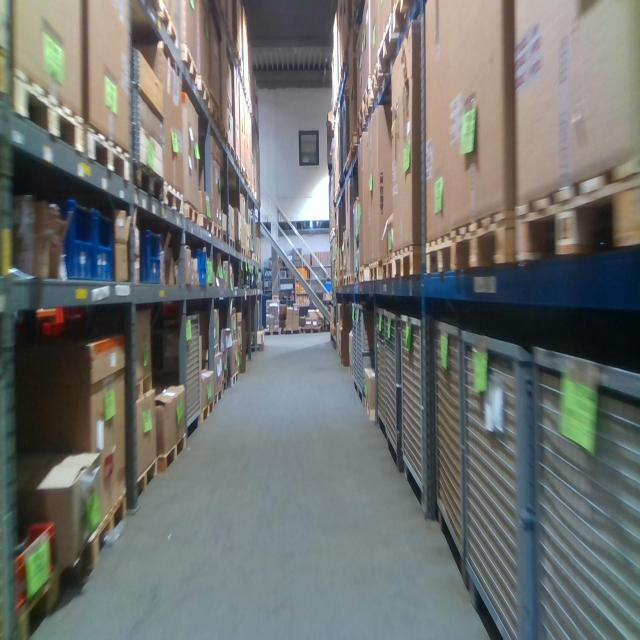pallet: (510, 172, 613, 271), (14, 67, 84, 158), (453, 209, 514, 277), (85, 490, 125, 572), (86, 116, 131, 185), (426, 228, 455, 278), (156, 429, 186, 477), (132, 452, 159, 501), (377, 10, 395, 72), (392, 243, 422, 280), (135, 161, 162, 202), (163, 178, 185, 218), (134, 367, 154, 410), (370, 62, 385, 103), (181, 42, 196, 83), (197, 74, 211, 110), (199, 396, 215, 426), (362, 75, 371, 127), (370, 257, 385, 285), (185, 199, 199, 229), (201, 340, 219, 363), (383, 251, 395, 285), (198, 213, 213, 236), (349, 131, 360, 160), (358, 261, 370, 287), (211, 220, 223, 242), (365, 398, 376, 421), (213, 387, 223, 412), (356, 99, 362, 140), (223, 140, 235, 160), (218, 375, 228, 396), (231, 368, 239, 391), (234, 151, 242, 174), (228, 328, 238, 345), (234, 341, 244, 357), (346, 147, 351, 175), (283, 326, 300, 334), (301, 326, 320, 333), (264, 329, 281, 336), (221, 228, 228, 244), (228, 237, 236, 250), (347, 274, 354, 288), (236, 240, 242, 253), (343, 275, 348, 289), (348, 362, 353, 375), (354, 273, 359, 285), (242, 244, 246, 257), (343, 266, 347, 277), (339, 278, 343, 288), (340, 267, 343, 278)
small_load_carrier: (54, 194, 96, 285), (95, 207, 118, 285), (139, 227, 162, 283), (195, 244, 208, 285)
stillage: (531, 331, 639, 637), (461, 321, 530, 638), (434, 311, 467, 588), (151, 306, 202, 447), (402, 307, 434, 525), (384, 302, 403, 473), (357, 301, 376, 401), (375, 302, 387, 439), (351, 300, 356, 395)
